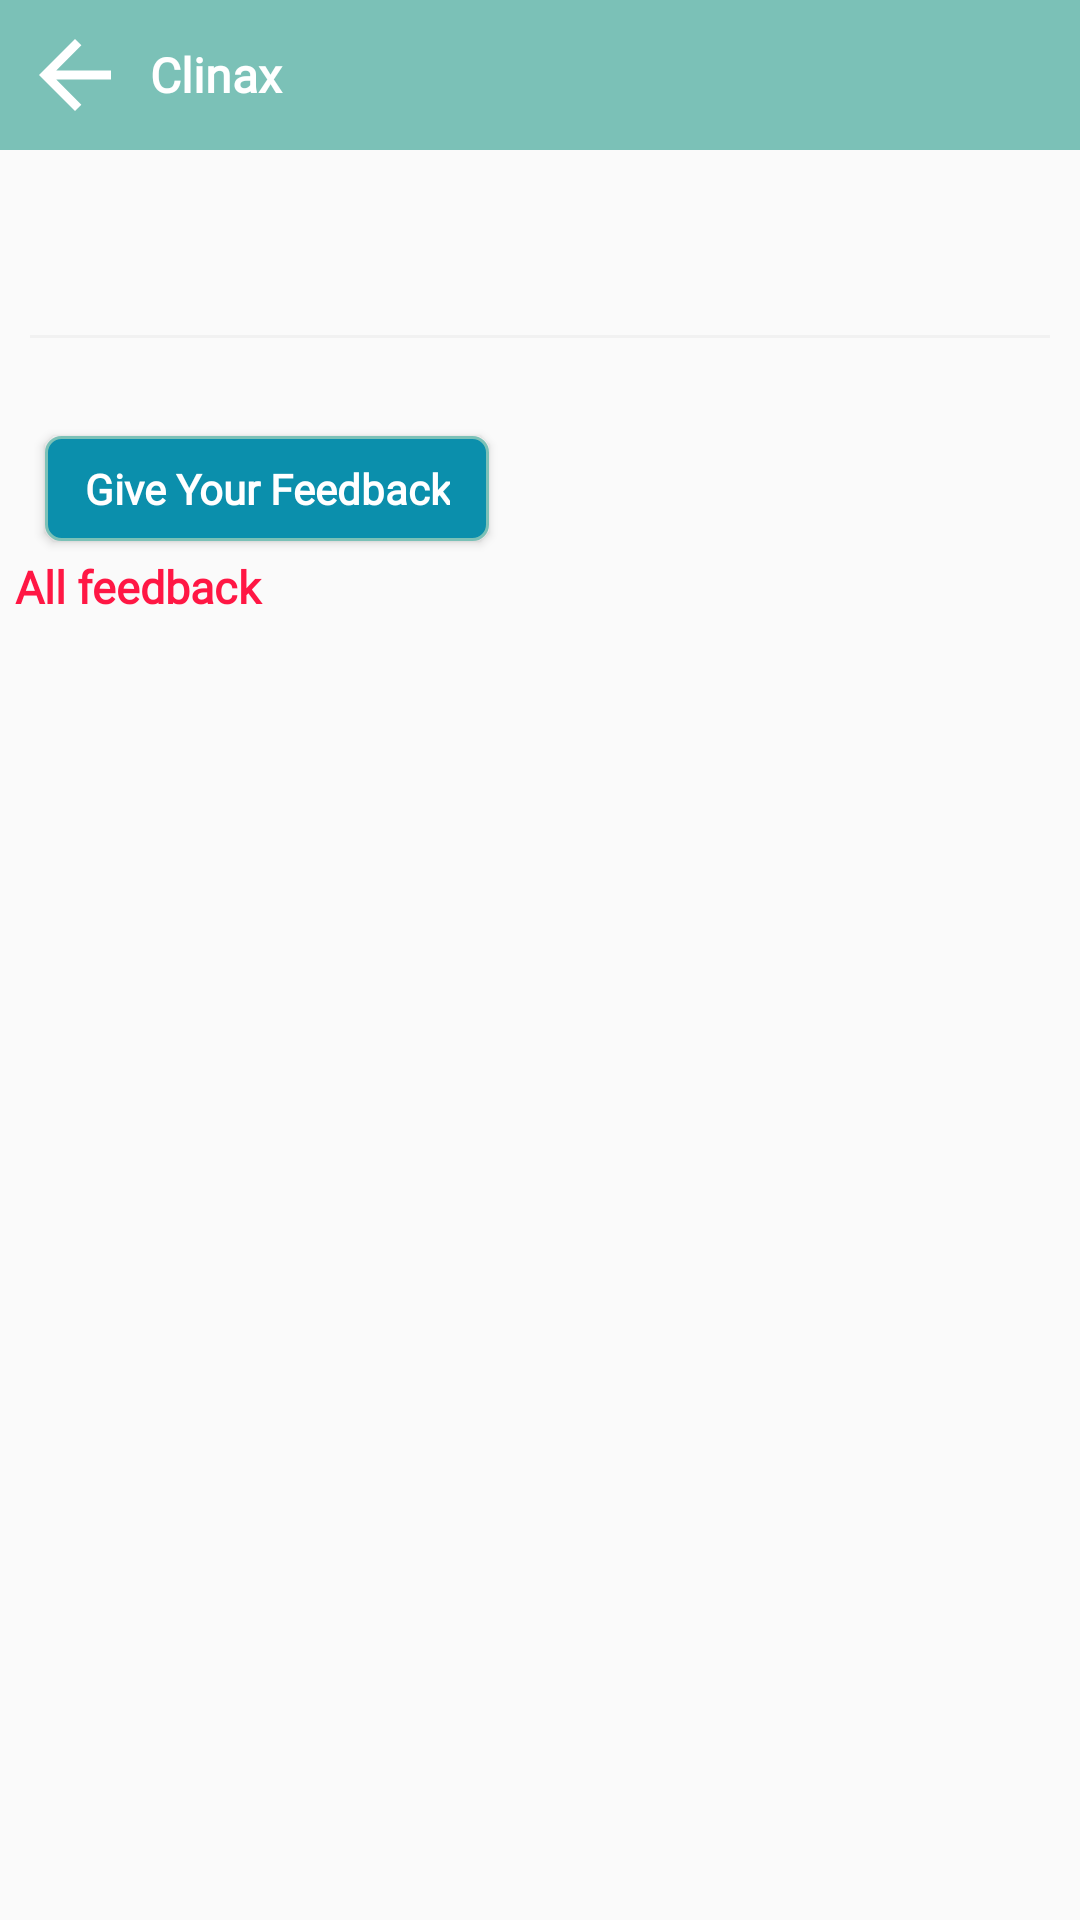

Icons on this 1080w x 1920h Android screen, each with its box as region(x1, y1, x2, y2):
arrow back: region(39, 39, 111, 111)
